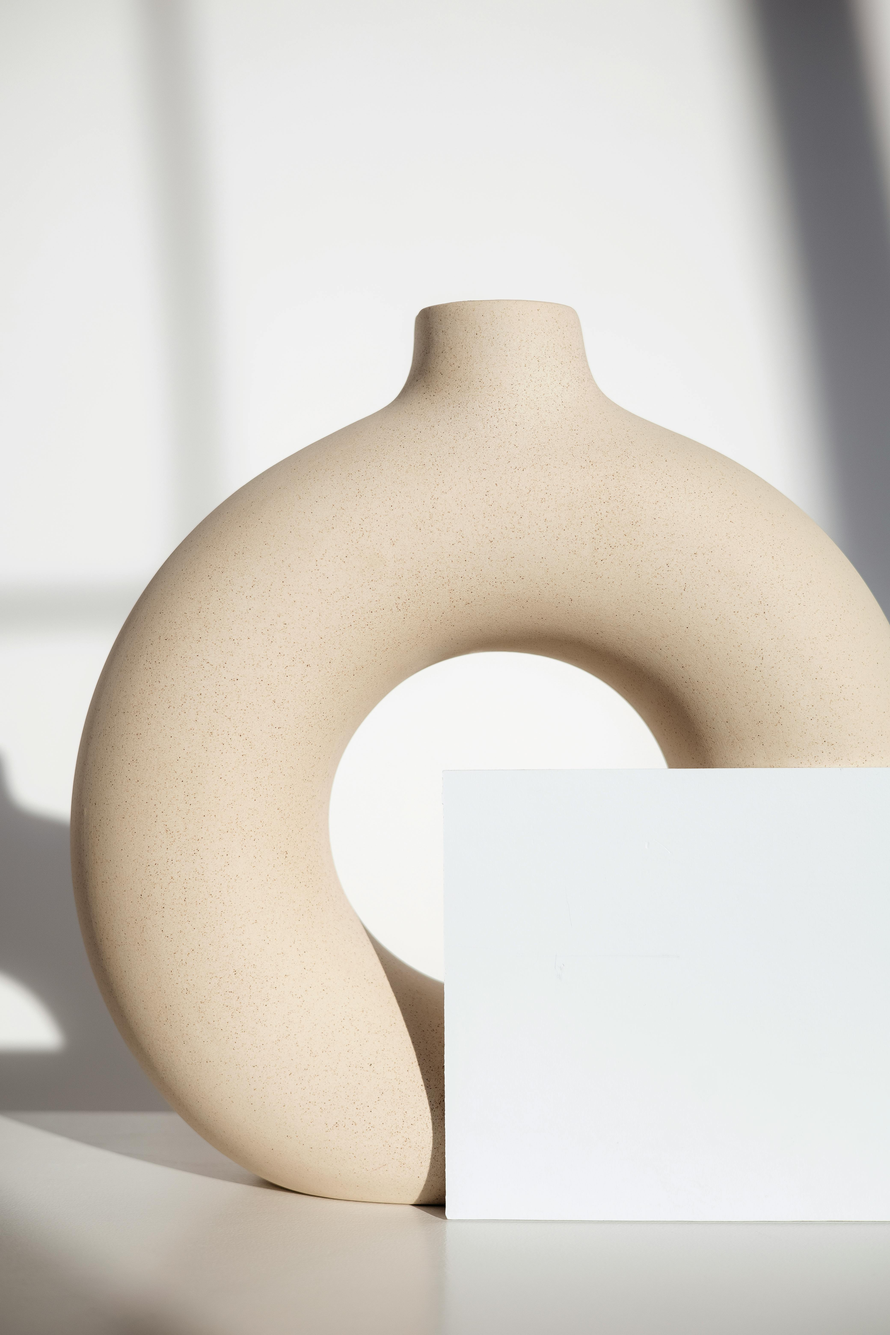paper: (443, 769, 889, 1222)
